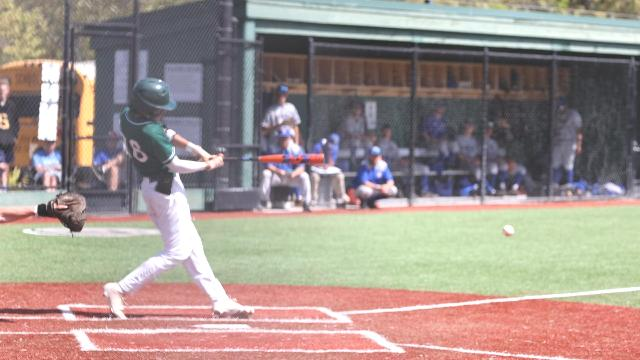baseball bat: (221, 153, 327, 165)
sports ball: (500, 224, 516, 238)
